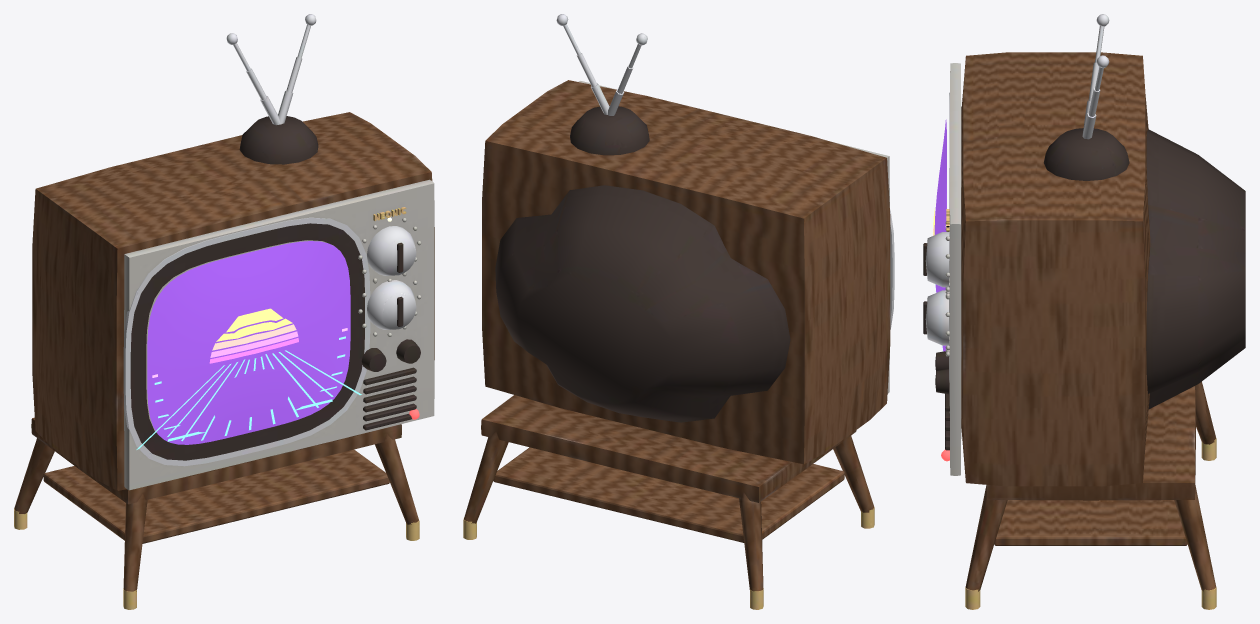
3 views of the same model, side by side, from view 1: azimuth 30°, elevation 25°; view 2: azimuth 150°, elevation 25°; view 3: azimuth 270°, elevation 25° (orthographic). The views are drawn at different scales.
Visible parts, largest first — view 1: body; view 2: body; view 3: body.
Boxes of the visible parts, box(x1,y1,x2,y2) form: body: box(14, 14, 434, 609); body: box(463, 14, 894, 609); body: box(923, 14, 1245, 609).
Bounding box in the file's own units: 1.9 × 2.72 × 1.5.
11 materials, 1 textured.
